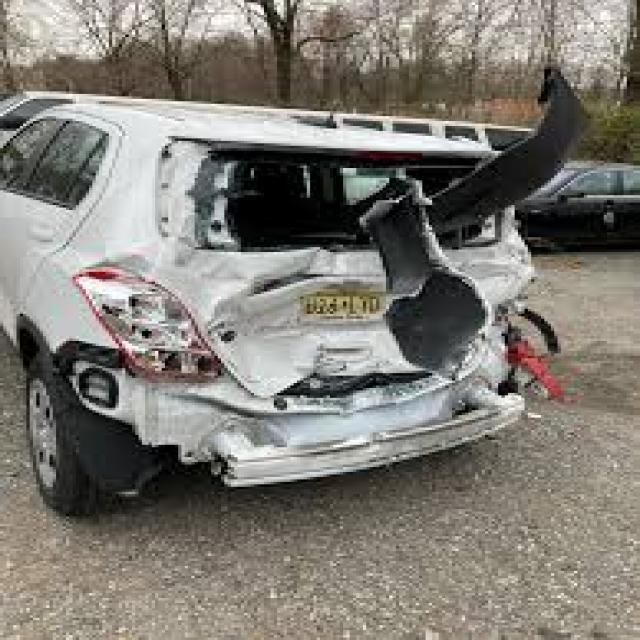damaged-trunk: (166, 142, 500, 382)
